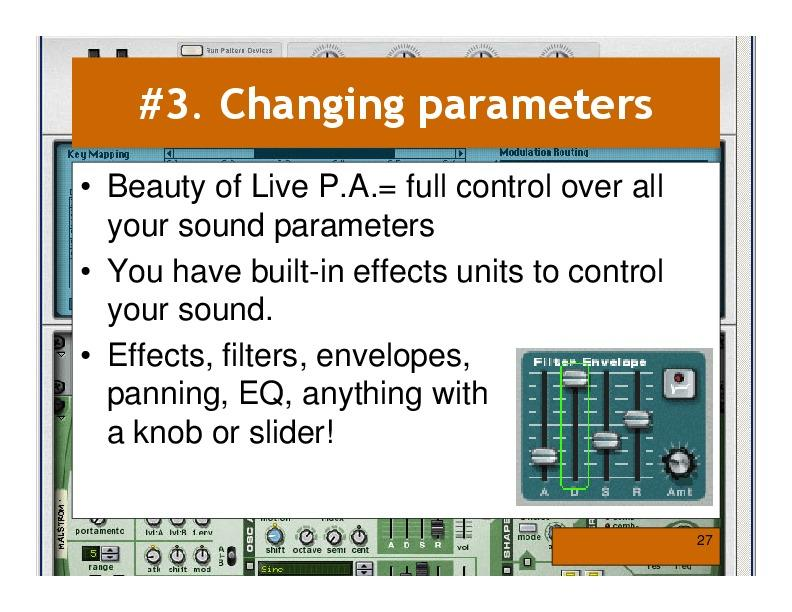paragraph: (78, 165, 694, 450)
title: (117, 70, 674, 135)
